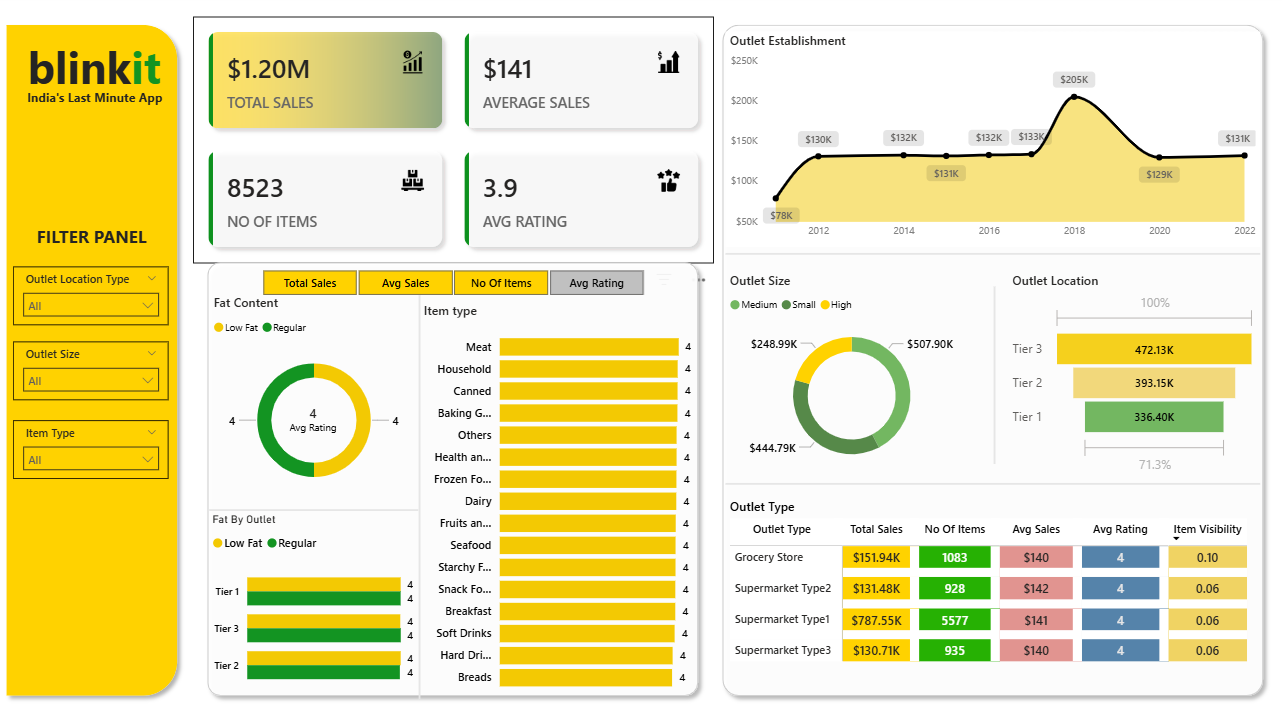

The page's visual inventory and layout, read from the dashboard file:
{"tool":"powerbi","page":{"name":"Page 1","canvas":[1400,800],"ordinal":0},"visuals":[{"type":"shape","box":[0,24.5,204.5,749.8],"z":0},{"type":"textbox","box":[21.8,40.9,166.3,79.1],"z":1000},{"type":"textbox","box":[23.2,98.2,165,45],"z":2000},{"type":"cardVisual","fields":{"Data":["BlinkIT Grocery Data.Total Sales","BlinkIT Grocery Data.Avg Sales","BlinkIT Grocery Data.No Of Items","BlinkIT Grocery Data.Avg Rating"]},"box":[212.1,24.2,569.7,269.7],"z":3000},{"type":"shape","box":[219.7,283.3,553,490.9],"z":4000},{"type":"donutChart","title":"Fat Content","fields":{"Y":["BlinkIT Grocery Data.Avg Rating"],"Category":["BlinkIT Grocery Data.Item Fat Content"]},"box":[230.3,327.3,228.8,230.3],"z":5000},{"type":"slicer","fields":{"Values":["Parameter.Parameter"]},"box":[263.6,293.9,465.2,40.9],"z":6000},{"type":"cardVisual","fields":{"Data":["BlinkIT Grocery Data.Avg Rating"]},"box":[293.9,428.8,98.5,68.2],"z":7000},{"type":"clusteredBarChart","title":"Fat By Outlet","fields":{"Y":["BlinkIT Grocery Data.Avg Rating"],"Category":["BlinkIT Grocery Data.Outlet Location Type"],"Series":["BlinkIT Grocery Data.Item Fat Content"]},"box":[228.8,565.2,228.8,204.5],"z":8000},{"type":"shape","box":[230,544.4,228.3,37.8],"z":9000},{"type":"shape","box":[442.4,328.8,33.3,440.9],"z":10000},{"type":"barChart","title":"Item type","fields":{"Y":["BlinkIT Grocery Data.Avg Rating"],"Category":["BlinkIT Grocery Data.Item Type"]},"box":[459.1,334.8,301.5,434.8],"z":11000},{"type":"shape","box":[781.8,24.2,607.6,750],"z":12000},{"type":"lineChart","title":"Outlet Establishment","fields":{"Category":["BlinkIT Grocery Data.Outlet Establishment Year"],"Y":["BlinkIT Grocery Data.Total Sales"]},"box":[793.9,40.9,583.3,234.8],"z":13000},{"type":"shape","box":[793.9,265.2,583.3,37.9],"z":14000},{"type":"donutChart","title":"Outlet Size","fields":{"Y":["BlinkIT Grocery Data.Total Sales"],"Category":["BlinkIT Grocery Data.Outlet Size"]},"box":[793.9,303,275.8,225.8],"z":15000},{"type":"shape","box":[1069.7,319.7,33.3,193.9],"z":16000},{"type":"funnel","title":"Outlet Location","fields":{"Y":["Sum(BlinkIT Grocery Data.Sales)"],"Category":["BlinkIT Grocery Data.Outlet Location Type"]},"box":[1101.5,303,275.8,225.8],"z":17000},{"type":"shape","box":[793.9,515.2,583.3,37.9],"z":18000},{"type":"pivotTable","title":"Outlet Type","fields":{"Rows":["BlinkIT Grocery Data.Outlet Type"],"Values":["BlinkIT Grocery Data.Total Sales","BlinkIT Grocery Data.No Of Items","BlinkIT Grocery Data.Avg Sales","BlinkIT Grocery Data.Avg Rating","Avg(BlinkIT Grocery Data.Item Visibility)"]},"box":[793.9,550,583.3,212.1],"z":19000},{"type":"slicer","fields":{"Values":["BlinkIT Grocery Data.Outlet Location Type"]},"box":[16.7,297,169.7,63.6],"z":20000},{"type":"slicer","fields":{"Values":["BlinkIT Grocery Data.Outlet Size"]},"box":[16.7,378.8,169.7,63.6],"z":21000},{"type":"slicer","fields":{"Values":["BlinkIT Grocery Data.Item Type"]},"box":[16.7,465.2,169.7,63.6],"z":22000},{"type":"textbox","box":[0,247,204.5,47],"z":23000}]}

Visuals, with their boxes in screenshot pixels (x1, y1, x2, y2), scaled from the page's 1400x800 canvas onto the 1282x725 screenshot:
shape: 0 22 187 702
textbox: 20 37 172 109
textbox: 21 89 172 130
cardVisual - BlinkIT Grocery Data.Total Sales x BlinkIT Grocery Data.Avg Sales: 194 22 716 266
shape: 201 257 708 702
"Fat Content" donutChart: 211 297 420 505
slicer - Parameter.Parameter: 241 266 667 303
cardVisual - BlinkIT Grocery Data.Avg Rating: 269 389 359 450
"Fat By Outlet" clusteredBarChart: 210 512 419 698
shape: 211 493 420 528
shape: 405 298 436 698
"Item type" barChart: 420 303 696 697
shape: 716 22 1272 702
"Outlet Establishment" lineChart: 727 37 1261 250
shape: 727 240 1261 275
"Outlet Size" donutChart: 727 275 980 479
shape: 980 290 1010 465
"Outlet Location" funnel: 1009 275 1261 479
shape: 727 467 1261 501
"Outlet Type" pivotTable: 727 498 1261 691
slicer - BlinkIT Grocery Data.Outlet Location Type: 15 269 171 327
slicer - BlinkIT Grocery Data.Outlet Size: 15 343 171 401
slicer - BlinkIT Grocery Data.Item Type: 15 422 171 479
textbox: 0 224 187 266
